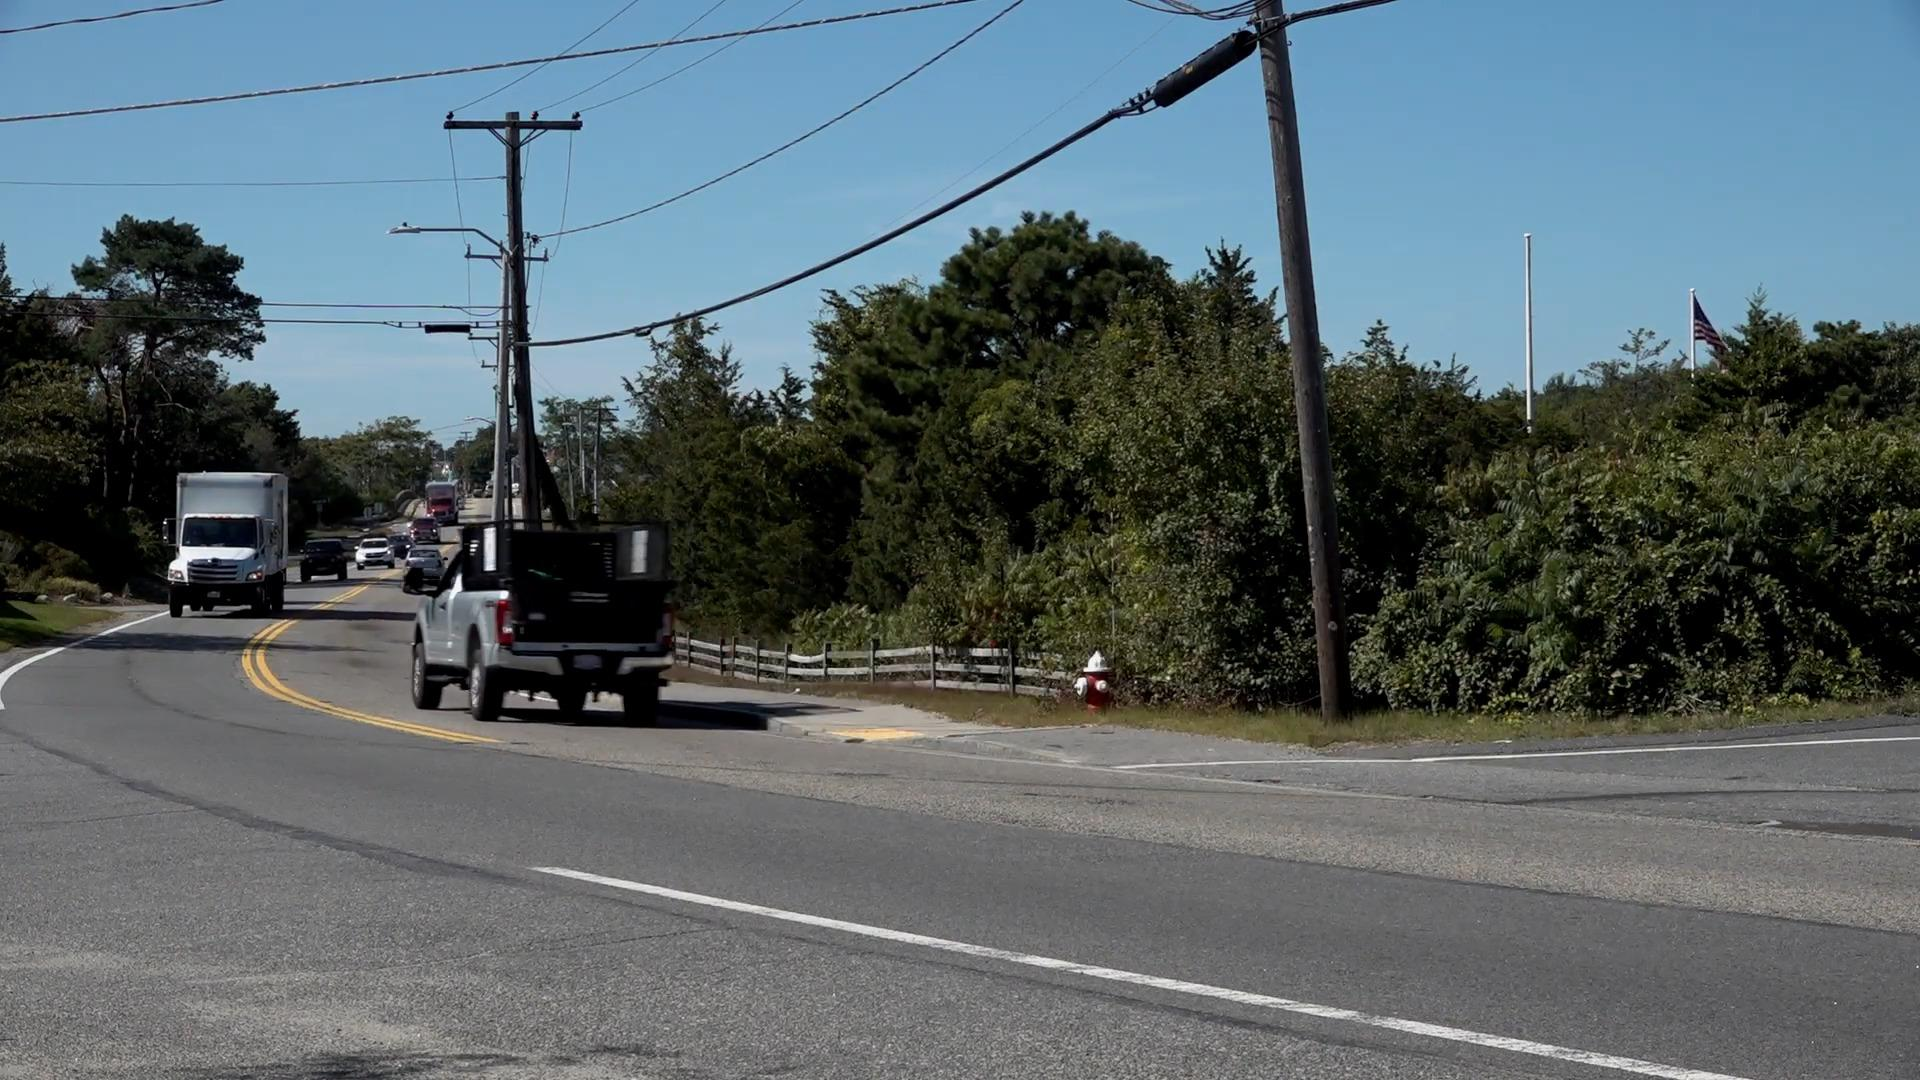pickup: (407, 533, 676, 715)
truck: (175, 475, 286, 615)
